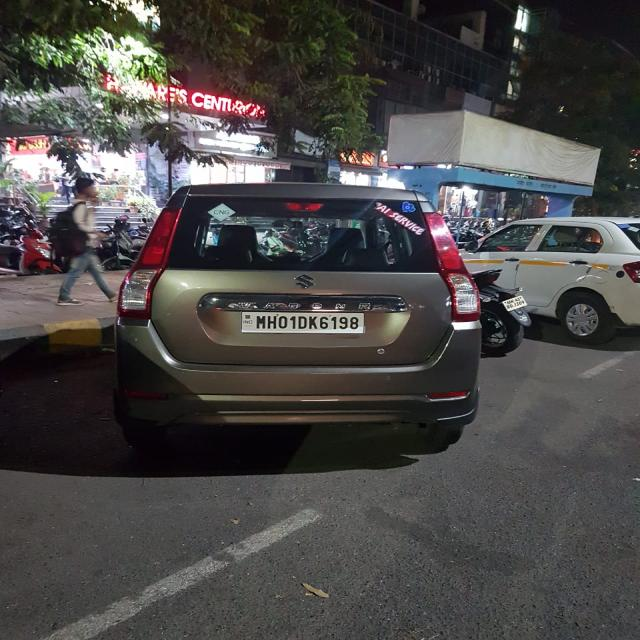Number-Plate: (244, 309, 361, 332)
